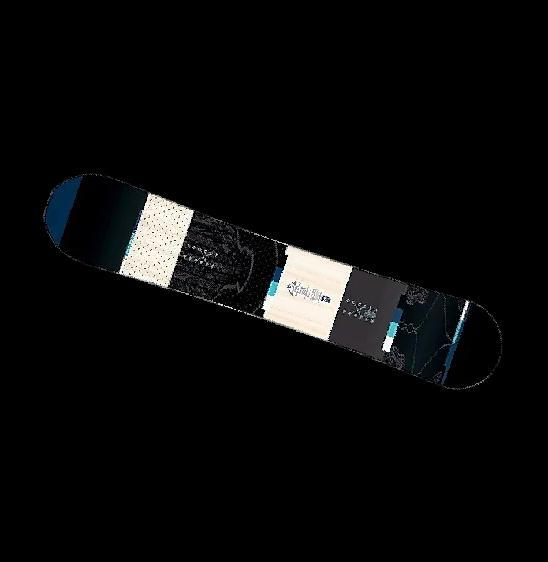Snowboard: (42, 171, 503, 391)
